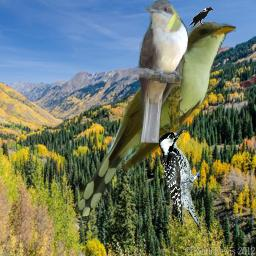Crow: (188, 6, 213, 27)
Cuckoo: (78, 22, 236, 216), (136, 0, 188, 143)
Woodpecker: (158, 127, 200, 229)
